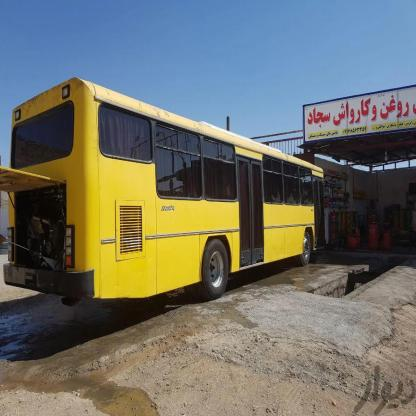Bus: (0, 68, 331, 308)
